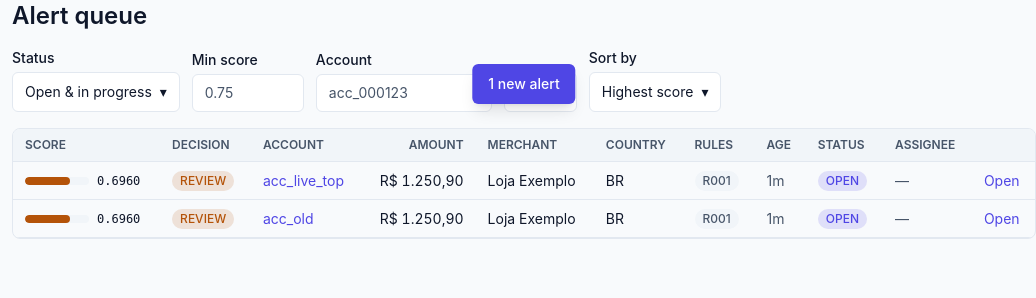
Alert Queue (SPEC §8.2) › inserts live alerts at the top, or counts them while the user is scrolled down
(page scrolled)
Expected: the link "acc_old" is shown, [263,210,314,226]
Expected: the text "acc_live_hidden" is not shown
Click the button "1 new alert" at (524, 84), box [472,64,576,104]
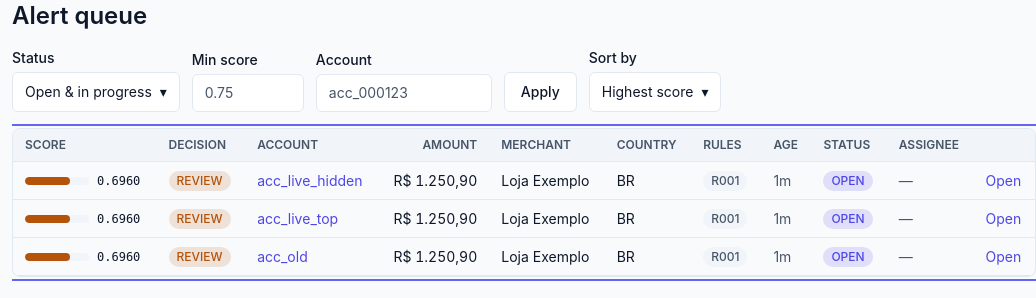
Now the button "new alert" is gone
